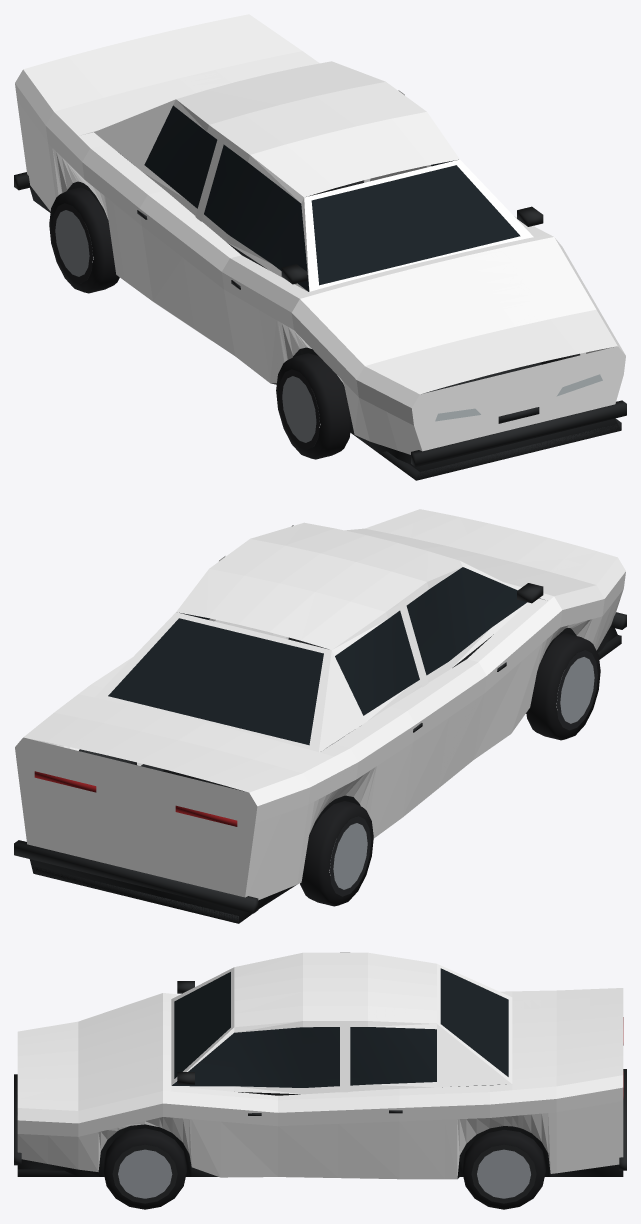
Rendered from vorhaus_nascente.glb.
The picture shows the model from 3 angles, top to bottom: view 1: azimuth 30°, elevation 25°; view 2: azimuth 150°, elevation 25°; view 3: azimuth 270°, elevation 25°; orthographic projection. The views are drawn at different scales.
Visible parts, largest first — view 1: Body_Paint, Body_Details, Mount_FrontLeft_Wheel_Details, Mount_RearLeft_Wheel_Details; view 2: Body_Paint, Body_Details, Mount_FrontLeft_Wheel_Details, Mount_RearLeft_Wheel_Details; view 3: Body_Paint, Body_Details, Mount_FrontRight_Wheel_Details, Mount_RearRight_Wheel_Details.
Boxes of the visible parts, x1=… form: Body_Paint: x1=15, y1=14, x2=625, y2=454; Body_Details: x1=14, y1=105, x2=626, y2=480; Mount_FrontLeft_Wheel_Details: x1=276, y1=353, x2=351, y2=459; Mount_RearLeft_Wheel_Details: x1=49, y1=187, x2=119, y2=293; Body_Paint: x1=15, y1=509, x2=625, y2=900; Body_Details: x1=14, y1=525, x2=626, y2=923; Mount_FrontLeft_Wheel_Details: x1=526, y1=633, x2=600, y2=740; Mount_RearLeft_Wheel_Details: x1=300, y1=801, x2=373, y2=906; Body_Paint: x1=17, y1=952, x2=623, y2=1179; Body_Details: x1=14, y1=968, x2=626, y2=1178; Mount_FrontRight_Wheel_Details: x1=103, y1=1128, x2=186, y2=1209; Mount_RearRight_Wheel_Details: x1=462, y1=1129, x2=545, y2=1209.
Bounding box in the file's own units: 1.85 × 1.4 × 4.47.
2 materials, 1 textured.
